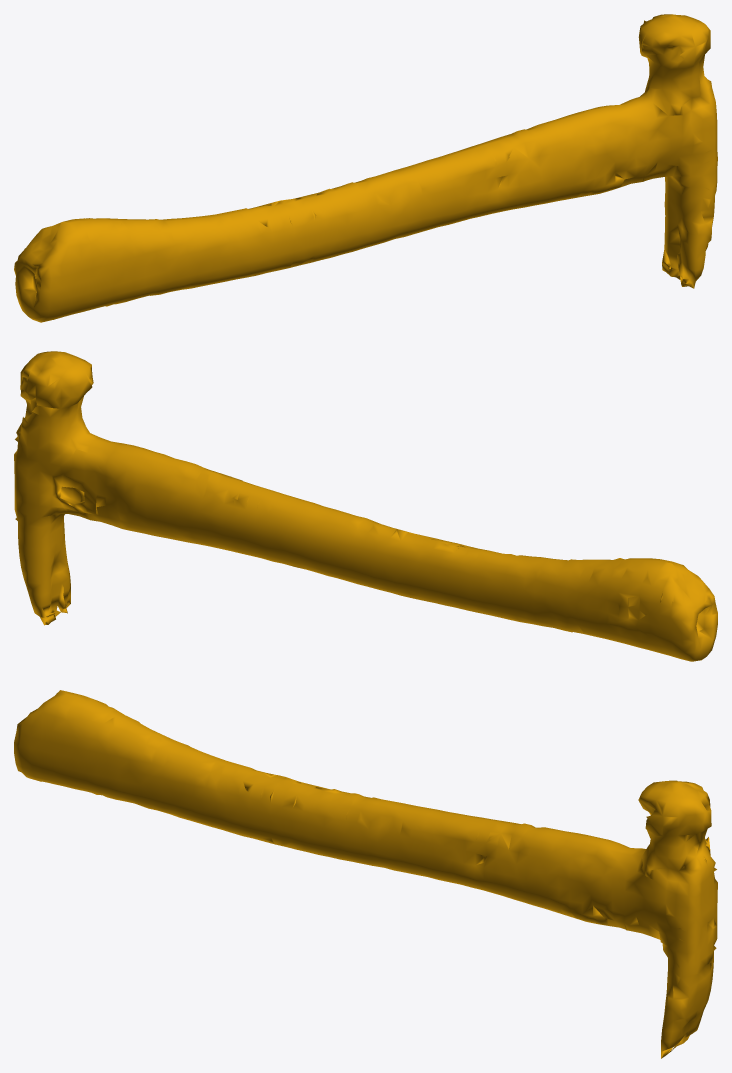
Rendered from model_origin.obj.
3 renders of one model, top to bottom at view 1: azimuth 30°, elevation 25°; view 2: azimuth 150°, elevation 25°; view 3: azimuth 330°, elevation 25°, orthographic.
Bounding box in the file's own units: 1.04 × 0.3822 × 0.0918.
